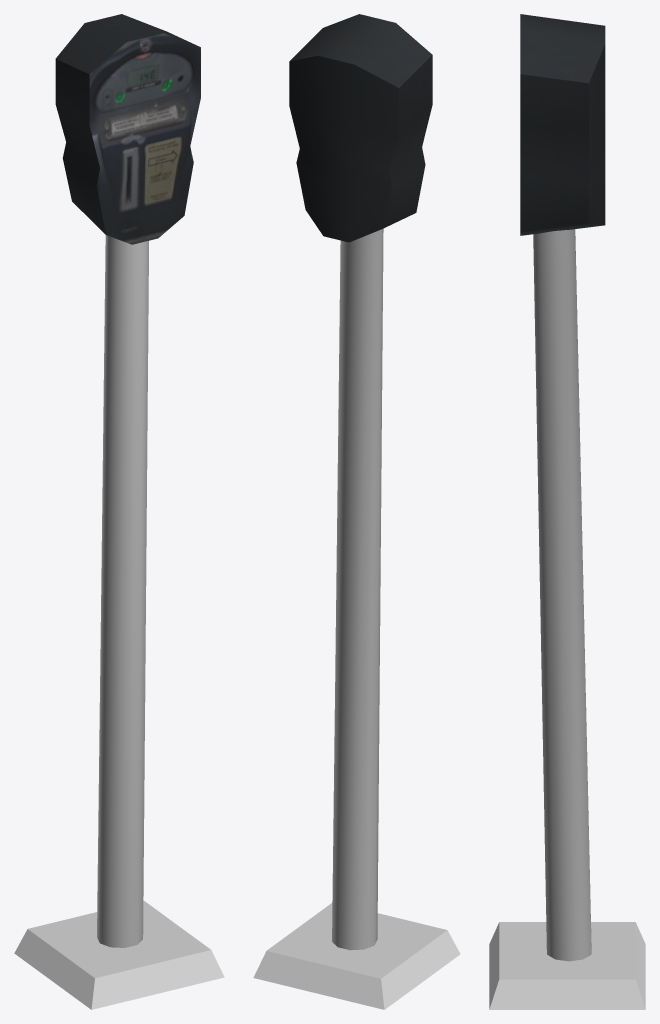
File: D_pmeter_01.FBX
3 views of the same model, side by side, from view 1: azimuth 30°, elevation 25°; view 2: azimuth 150°, elevation 25°; view 3: azimuth 270°, elevation 25° (orthographic). The views are drawn at different scales.
Visible parts, largest first — view 1: Object146; view 2: Object146; view 3: Object146.
Part boxes in pixels (x1,y1,x2,y2): Object146: (14,14,224,1009); Object146: (253,14,460,1009); Object146: (489,14,645,1009).
Bounding box in the file's own units: 0.5695 × 0.5723 × 3.86.
